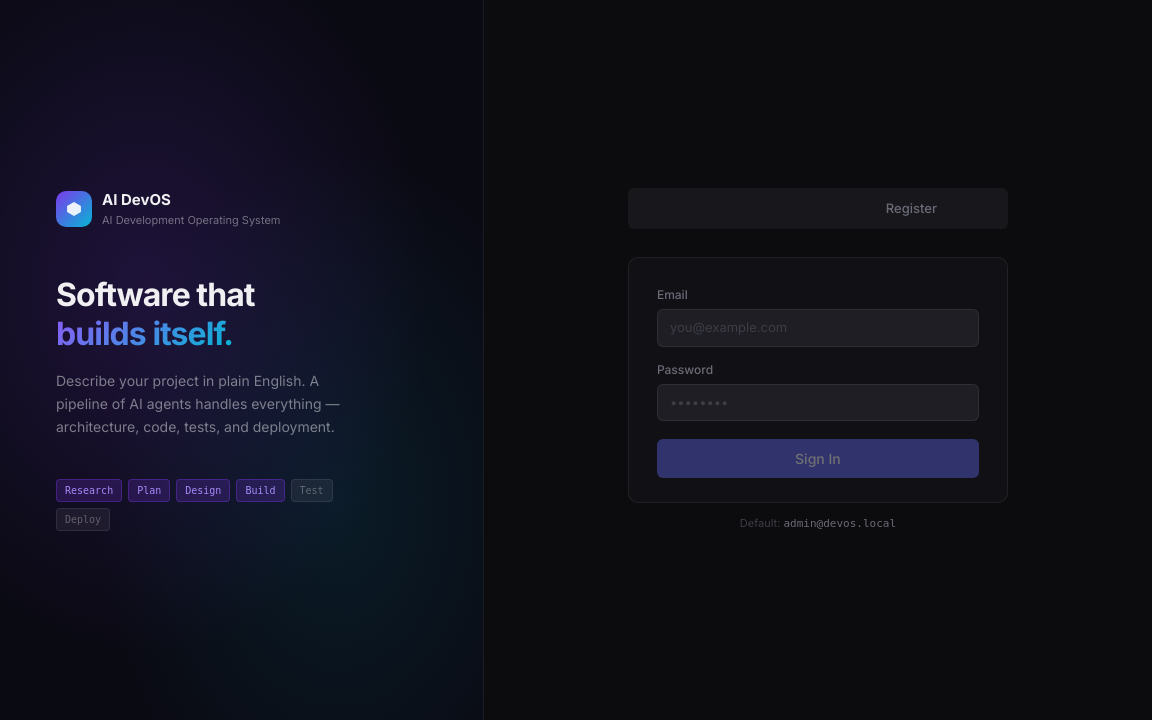
Test: LoginPage — sign-in mode › shows error message when login() throws
In the field with placeholder "you@example.com": (818, 328) [657,309,979,346], type "bad@x.com"
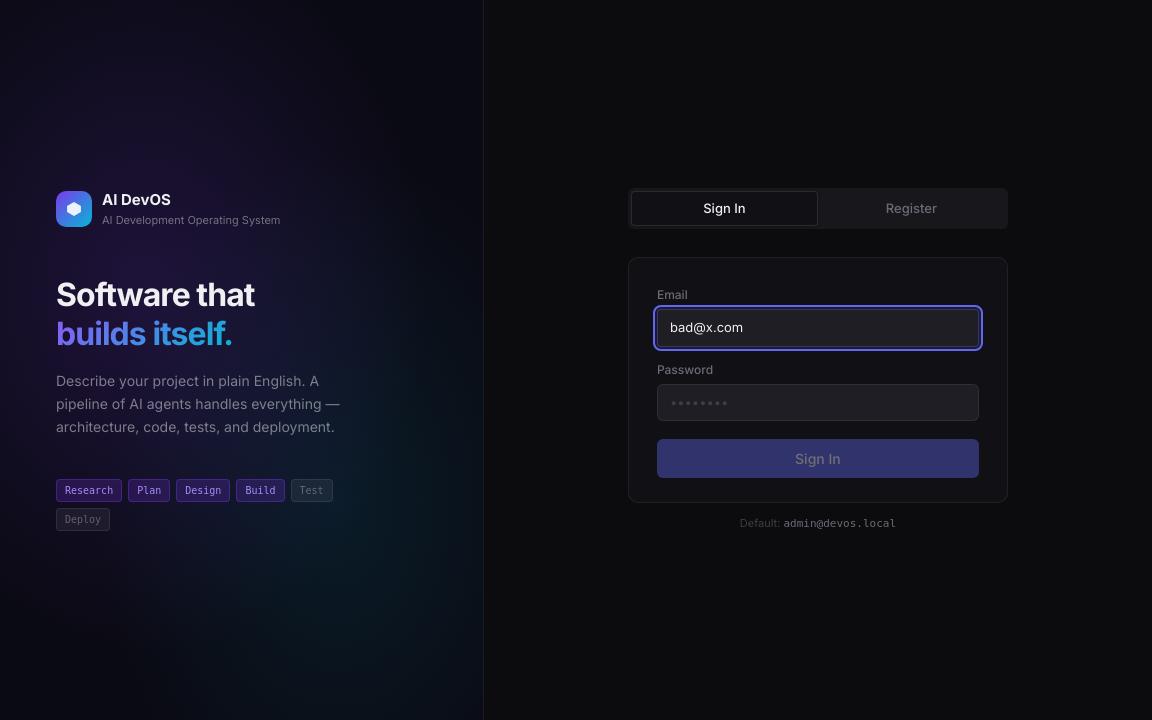
In the password field with placeholder "••••••••": (818, 402) [657,384,979,421], type "wrongpass"
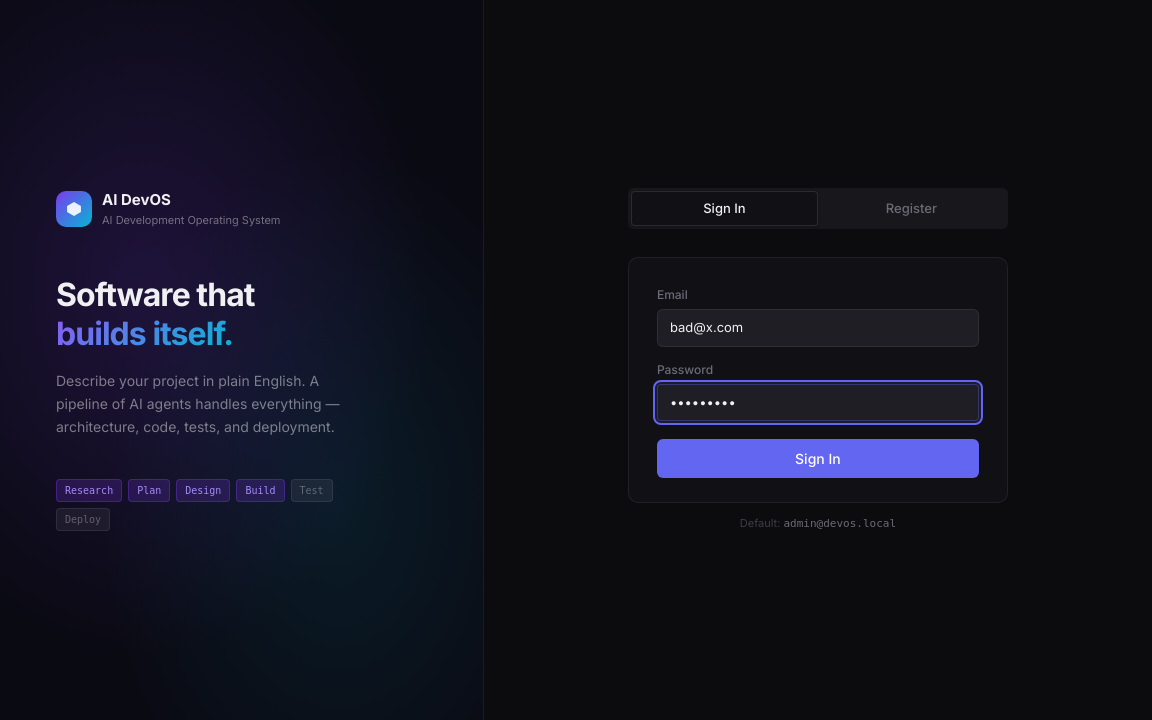
Click the button "Sign In" below "Password": (818, 458) [657,439,979,478]
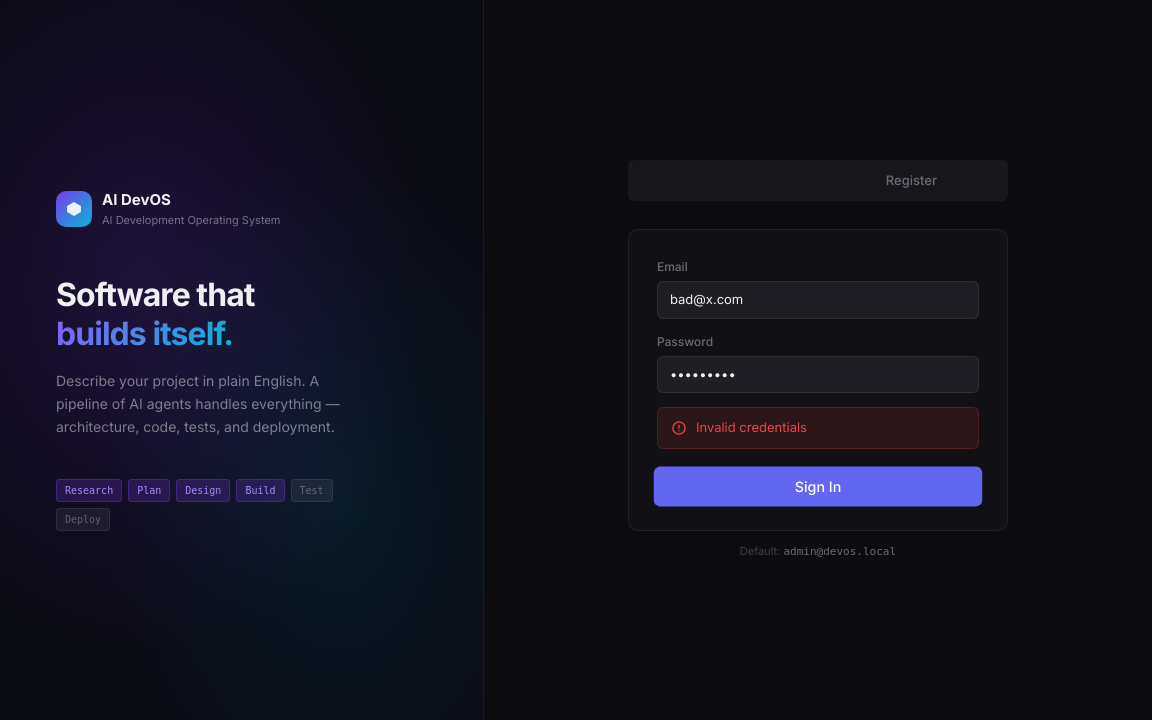
Expected: the text "Invalid credentials" is shown, [657,407,979,449]
